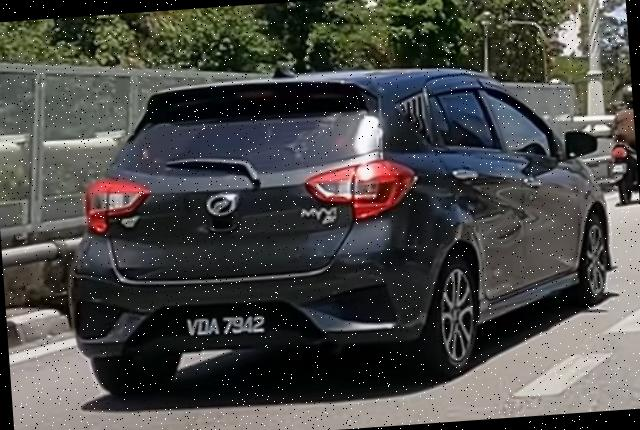License_Plate: (181, 309, 271, 346)
car: (53, 46, 626, 406)
